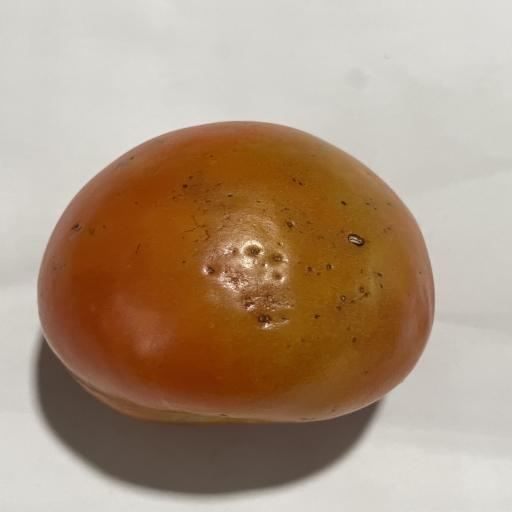unripe: (38, 122, 433, 423)
